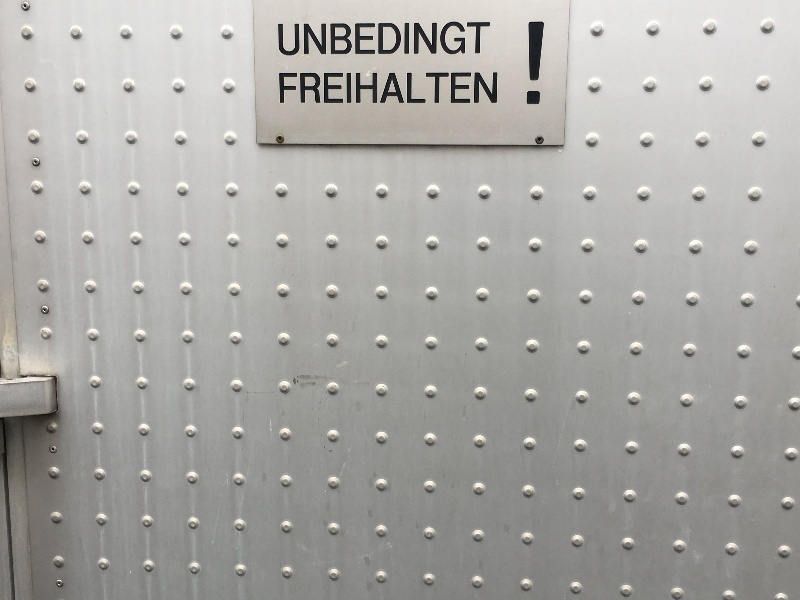text: (529, 22, 544, 105), (289, 22, 304, 56), (305, 22, 320, 56), (321, 22, 336, 56), (337, 22, 352, 56), (353, 22, 368, 56), (369, 22, 384, 56), (385, 22, 400, 56), (401, 22, 416, 56), (417, 22, 432, 56), (433, 22, 448, 56), (449, 22, 464, 56), (465, 22, 480, 56), (289, 72, 304, 104), (305, 72, 320, 104), (321, 72, 336, 104), (337, 72, 352, 104), (353, 72, 368, 104), (369, 72, 384, 104), (385, 72, 400, 104), (401, 72, 416, 104), (417, 72, 432, 104), (433, 72, 448, 104), (449, 72, 464, 104), (465, 72, 480, 104), (481, 72, 496, 104), (278, 22, 288, 56), (481, 22, 491, 56), (280, 72, 288, 104), (497, 72, 498, 104)
